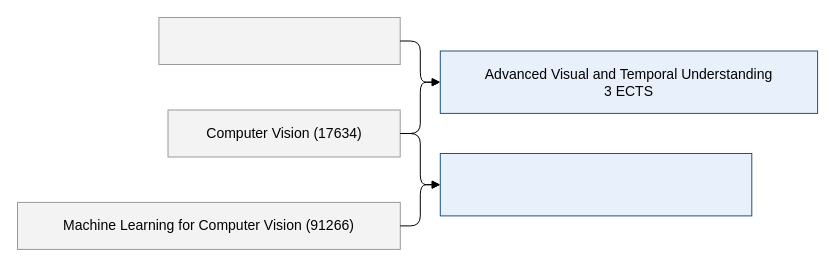
Some shapes in this 836 by 267 pixel diagram are drawn without their labels. Each missing label, with the centre of its shape:
COMPUTER VISION (93478): the point at 279,40
Visual Understanding Fundamentals 3 ECTS: the point at 595,184
